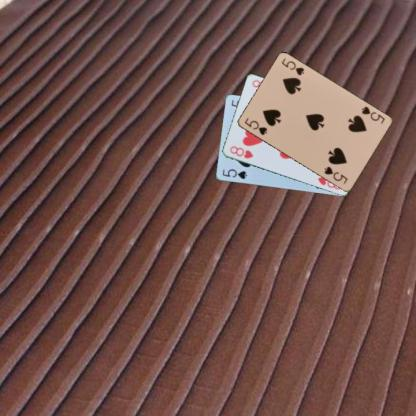5s: (359, 103, 386, 125), (242, 115, 268, 136), (219, 166, 248, 180)
8h: (227, 143, 254, 160)
